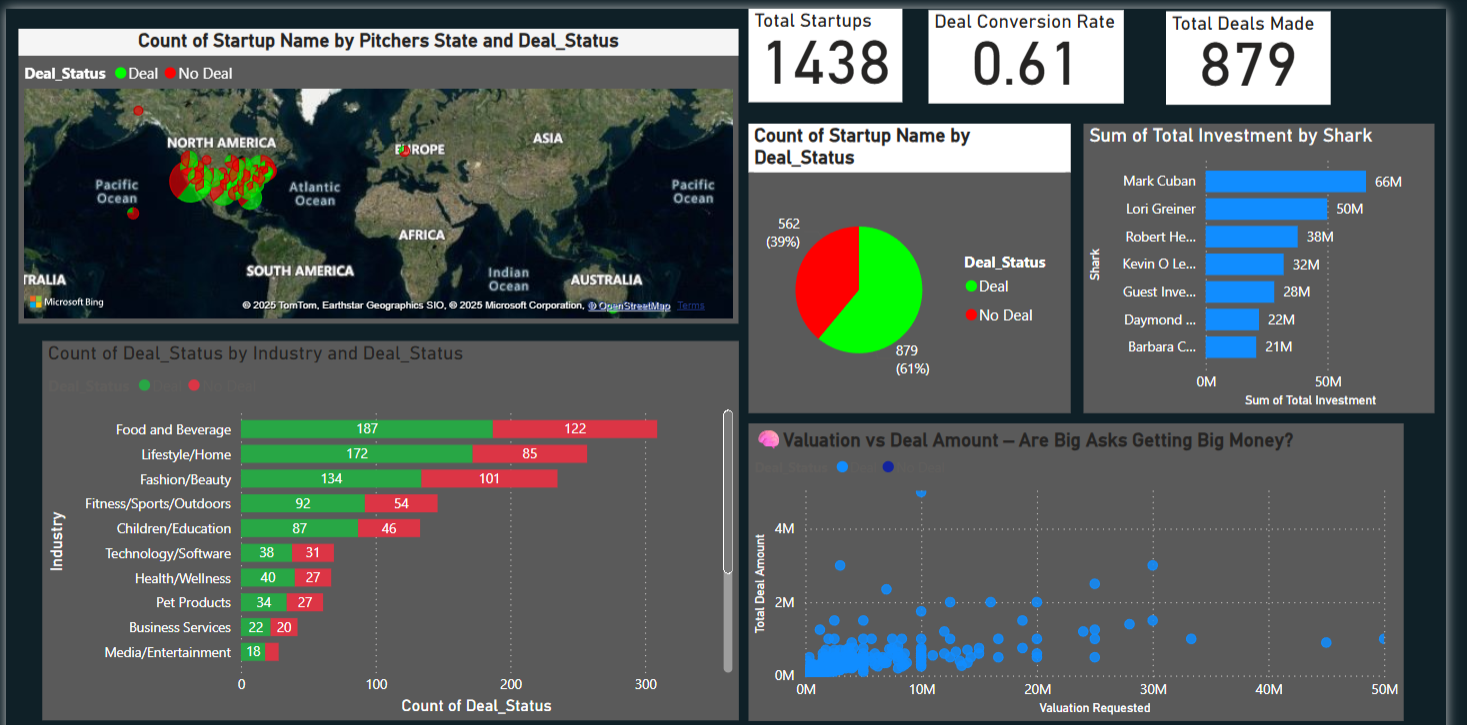

What the dashboard file says about the page in this screenshot:
{"tool":"powerbi","page":{"name":"Page 1","canvas":[1280,720],"ordinal":0},"visuals":[{"type":"pieChart","fields":{"Category":["SharkTank_US_Cleaned.Deal_Status"],"Y":["SharkTank_US_Cleaned.Startup Name"]},"box":[660,102.2,286.7,257.8],"z":0},{"type":"barChart","fields":{"Series":["SharkTank_US_Cleaned.Deal_Status"],"Y":["SharkTank_US_Cleaned.Deal_Status"],"Category":["SharkTank_US_Cleaned.Industry"]},"box":[32.2,295.6,618.9,337.8],"z":1000},{"type":"map","fields":{"Category":["SharkTank_US_Cleaned.Pitchers State"],"Series":["SharkTank_US_Cleaned.Deal_Status"],"Size":["SharkTank_US_Cleaned.Startup Name"]},"box":[11.1,17.8,640,262.2],"z":2000},{"type":"card","title":"Total Startups","fields":{"Values":["SharkTank_US_Cleaned.Startup Name"]},"box":[660,0,136.7,83.3],"z":3000},{"type":"card","title":"Total Deals Made","fields":{"Values":["SharkTank_US_Cleaned.Deal_Status"]},"box":[1031.1,2.2,146.7,83.3],"z":4000},{"type":"card","title":"Deal Conversion Rate","fields":{"Values":["SharkTank_US_Cleaned.Deal Rate %"]},"box":[820,1.1,173.3,83.3],"z":5000},{"type":"clusteredBarChart","fields":{"Y":["Shark_Investments_Summary.Total Investment"],"Category":["Shark_Investments_Summary.Shark"]},"box":[957.8,102.2,312.2,257.8],"z":6000},{"type":"scatterChart","title":"🧠Valuation vs Deal Amount – Are Big Asks Getting Big Money?","fields":{"Series":["SharkTank_US_Cleaned.Deal_Status"],"X":["SharkTank_US_Cleaned.Valuation Requested"],"Y":["SharkTank_US_Cleaned.Total Deal Amount"]},"box":[660,368.9,582.2,264.4],"z":7000}]}

Visuals, with their boxes on the page's 1280x720 design canvas (x1, y1, x2, y2). These are canvas units, not pixel positions in the 1467x725 screenshot, which may show the page scaled, cropped or inside an application window:
pieChart - SharkTank_US_Cleaned.Deal_Status x SharkTank_US_Cleaned.Startup Name: rect(660, 102, 947, 360)
barChart - SharkTank_US_Cleaned.Deal_Status x SharkTank_US_Cleaned.Deal_Status: rect(32, 296, 651, 633)
map - SharkTank_US_Cleaned.Pitchers State x SharkTank_US_Cleaned.Deal_Status: rect(11, 18, 651, 280)
"Total Startups" card: rect(660, 0, 797, 83)
"Total Deals Made" card: rect(1031, 2, 1178, 86)
"Deal Conversion Rate" card: rect(820, 1, 993, 84)
clusteredBarChart - Shark_Investments_Summary.Total Investment x Shark_Investments_Summary.Shark: rect(958, 102, 1270, 360)
"🧠Valuation vs Deal Amount – Are Big Asks Getting Big Money?" scatterChart: rect(660, 369, 1242, 633)
